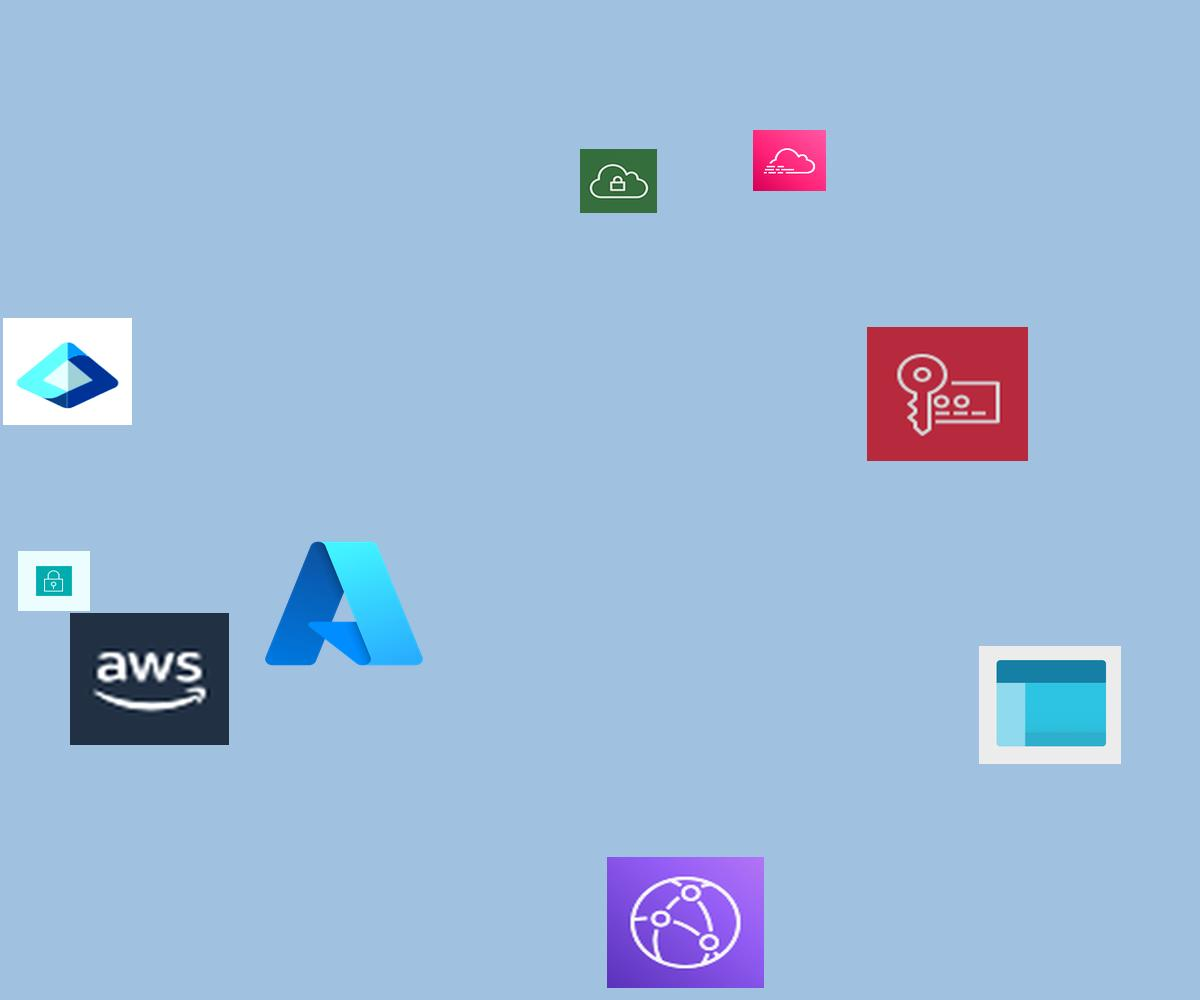AWS-Cloud-logo: (70, 613, 229, 745)
AWS-CloudFront: (607, 857, 764, 988)
AWS-CloudTrail: (753, 130, 826, 191)
AWS-Key-Management-Service: (867, 327, 1028, 461)
AWS-Private-subnet: (18, 551, 90, 611)
AWS-Private_vpc: (580, 149, 657, 213)
Azure_management-portal: (979, 646, 1121, 764)
Azure_microsoft_entra: (3, 318, 132, 425)
Azure_services: (258, 532, 430, 675)
